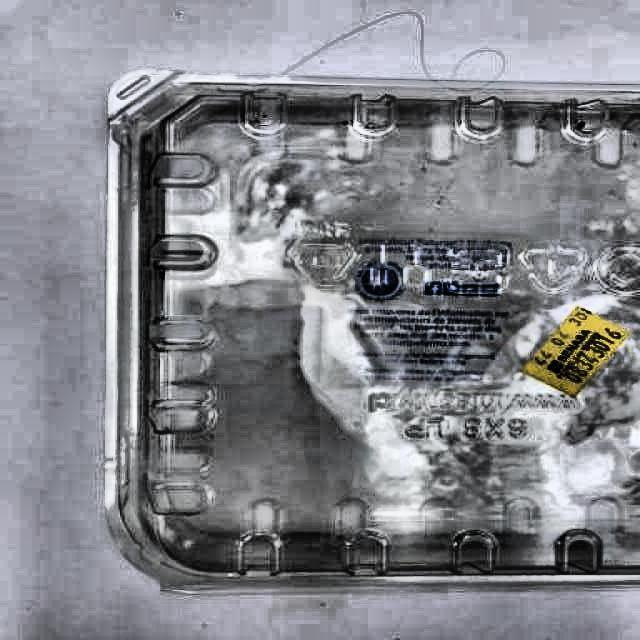plastic: (104, 71, 639, 588)
